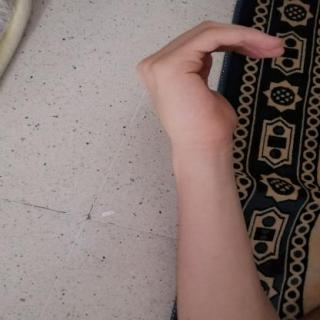HAA: (124, 12, 301, 160)
